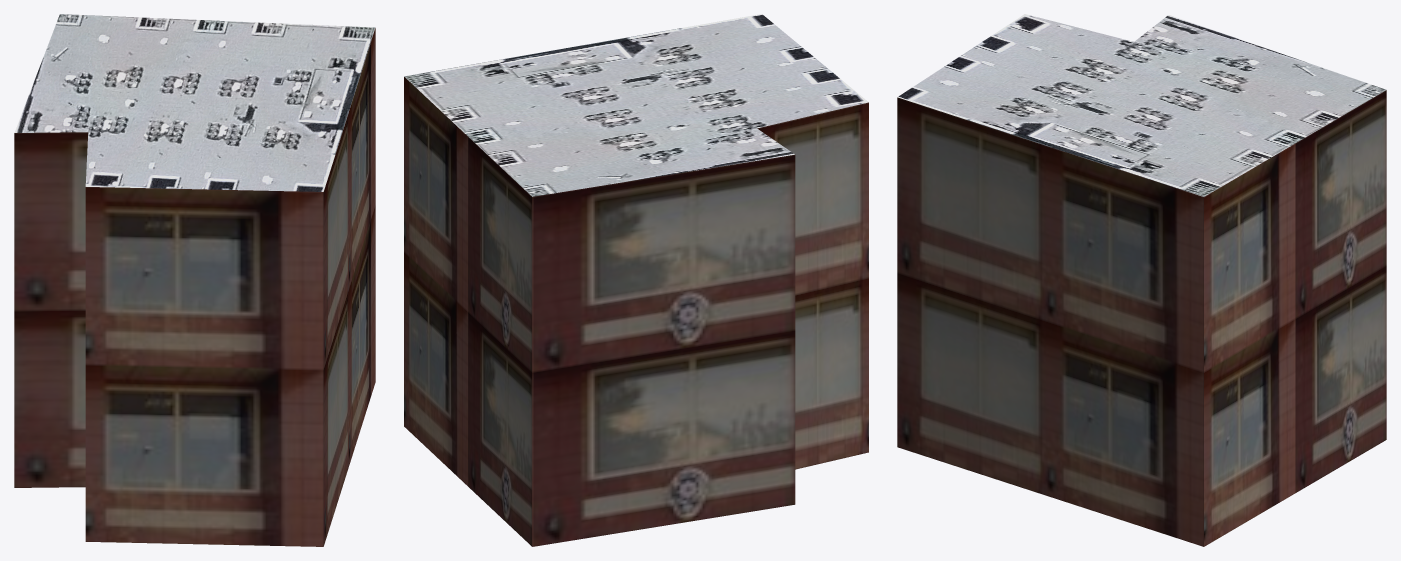
Rendered from ResTex__5113.fbx.
The picture shows the model from 3 angles, left to right: view 1: azimuth 30°, elevation 25°; view 2: azimuth 150°, elevation 25°; view 3: azimuth 270°, elevation 25°; orthographic projection.
Visible parts, largest first — view 1: CityEngineMaterial_13_m, CityEngineMaterial_8_m; view 2: CityEngineMaterial_13_m, CityEngineMaterial_8_m; view 3: CityEngineMaterial_13_m, CityEngineMaterial_8_m.
Boxes of the visible parts, x1,y1,x2,y2 form: CityEngineMaterial_13_m: [14, 28, 375, 546]; CityEngineMaterial_8_m: [14, 14, 375, 191]; CityEngineMaterial_13_m: [404, 77, 868, 546]; CityEngineMaterial_8_m: [404, 14, 868, 196]; CityEngineMaterial_13_m: [897, 90, 1386, 546]; CityEngineMaterial_8_m: [897, 14, 1386, 196].
Bounding box in the file's own units: 6.73 × 6 × 7.61.
2 materials, 2 textured.
